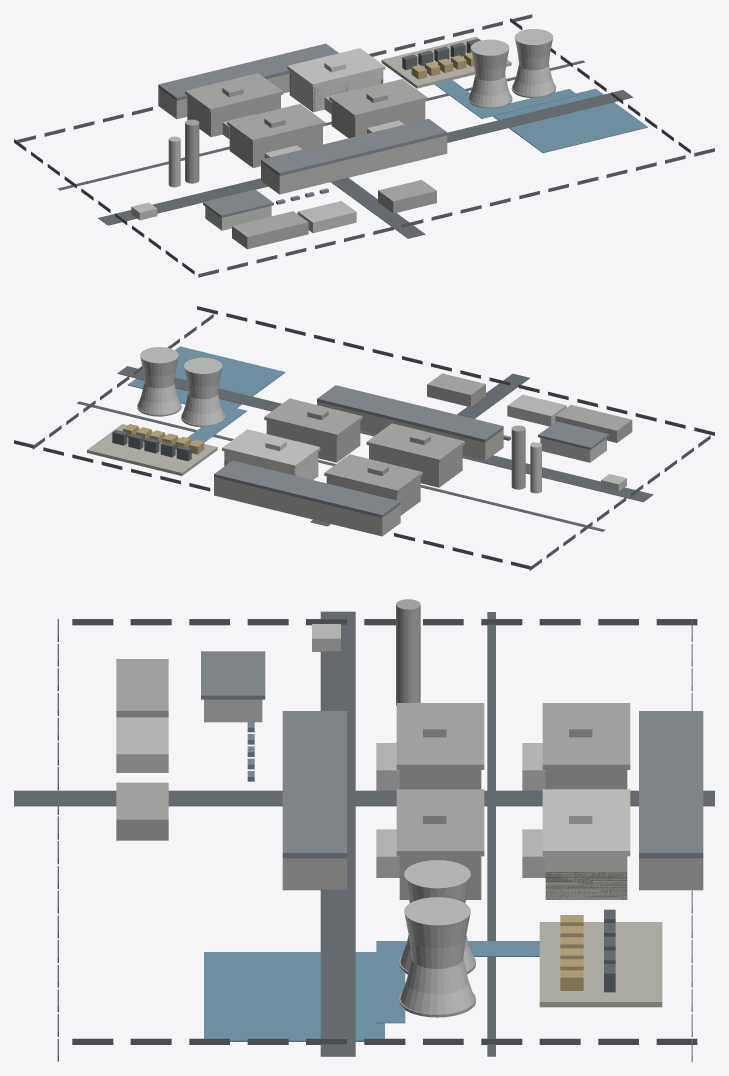
File: chernobyl.glb
3 renders of one model, top to bottom at view 1: azimuth 30°, elevation 25°; view 2: azimuth 150°, elevation 25°; view 3: azimuth 270°, elevation 25°, orthographic. The views are drawn at different scales.
Visible parts, largest first — view 1: Body, Reactor4; view 2: Body, Reactor4; view 3: Body, Reactor4, Reactor4_Ruin.
Part boxes in pixels (left/top/right/bottom): Body: left=14, top=14, right=714, bottom=277; Reactor4: left=287, top=48, right=385, bottom=111; Body: left=14, top=306, right=714, bottom=570; Reactor4: left=222, top=429, right=320, bottom=479; Body: left=14, top=599, right=714, bottom=1061; Reactor4: left=542, top=789, right=630, bottom=899; Reactor4_Ruin: left=545, top=872, right=627, bottom=899.
Bounding box in the file's own units: 364 × 38.5 × 240.
